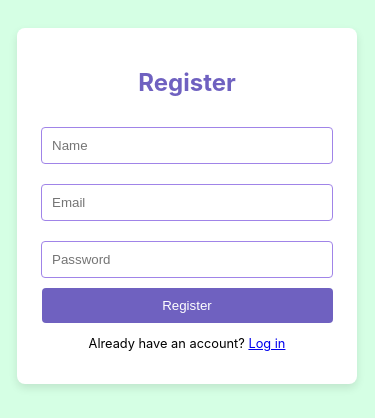
Test: Register Component › handles form submission with error
Type "Pera Peric" into the field with placeholder "Name" at (187, 146), box [41,127,333,164]
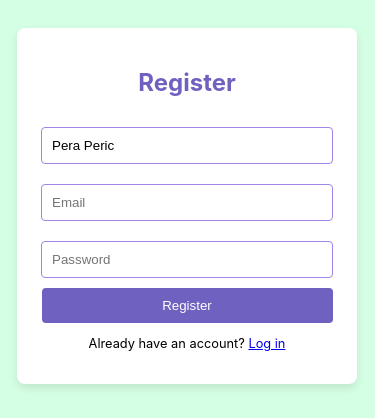
Type "pera@gmail.com" into the field with placeholder "Email" at (187, 203), box [41,184,333,221]
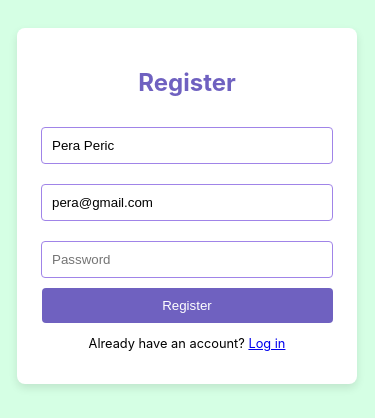
Type "password123" into the password field with placeholder "Password" at (187, 260), box [41,241,333,278]
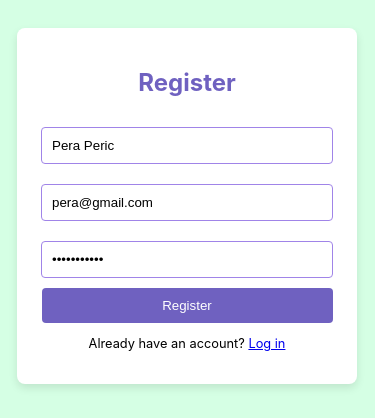
Click the button with test id "register-button" at (187, 306), box [42,288,332,323]
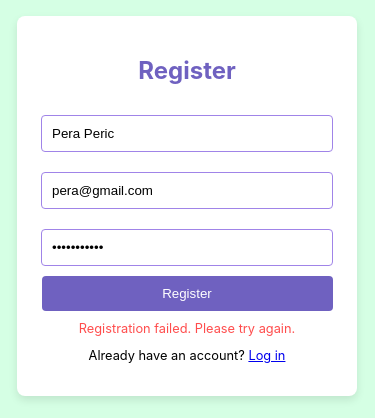
Check: the text "Registration failed. Please try again." is shown, box [79,321,295,336]
